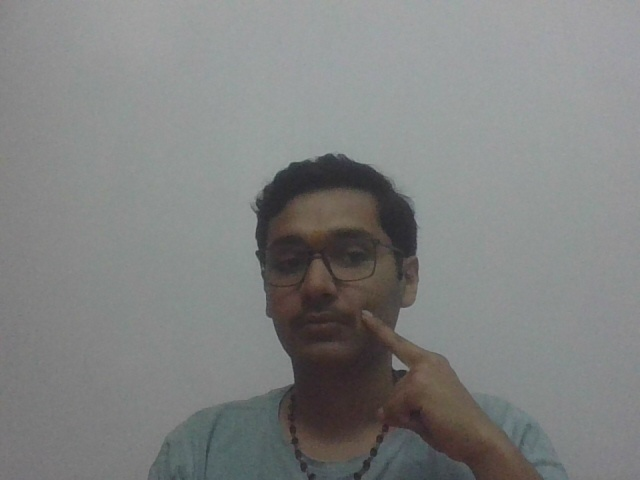I: (359, 305, 504, 461)
